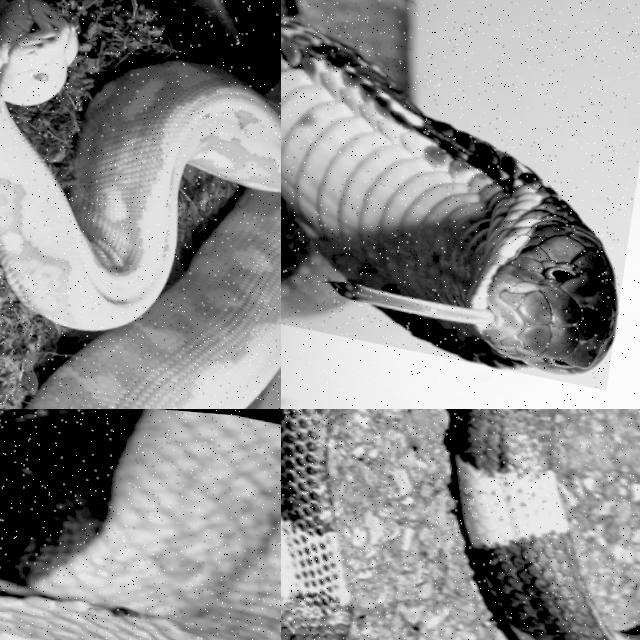Bungarus candidus: (453, 409, 639, 639)
Malayopython reticulatus: (0, 0, 280, 408)
Naja kaouthia: (0, 409, 280, 639)
Ophiophagus hannah: (281, 0, 616, 373)
snake: (281, 0, 616, 373), (0, 0, 280, 408), (0, 409, 280, 639), (453, 409, 639, 639)
